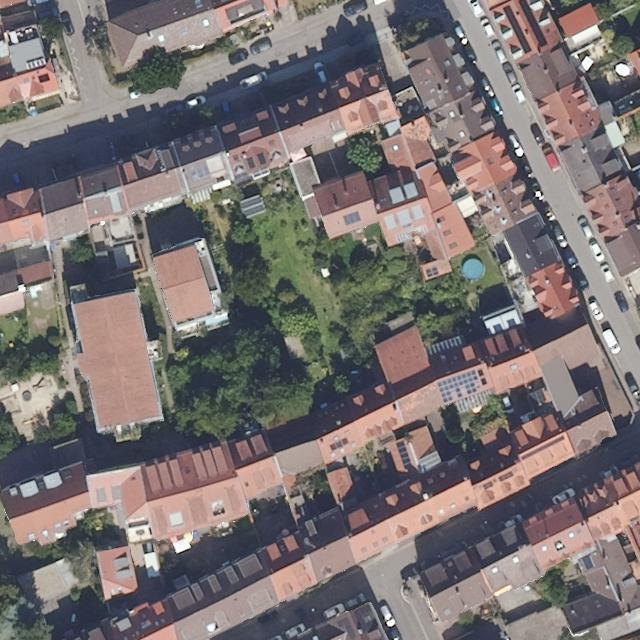PV: (436, 368, 483, 404), (394, 223, 429, 244), (394, 439, 413, 470), (342, 210, 362, 227), (329, 436, 350, 452), (189, 164, 211, 179), (425, 266, 440, 279), (246, 156, 257, 170), (256, 152, 267, 166)
